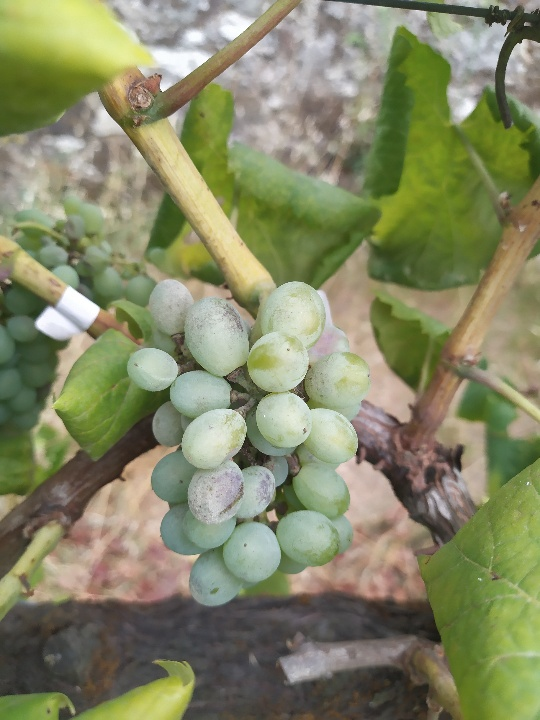grape: (124, 275, 373, 609)
